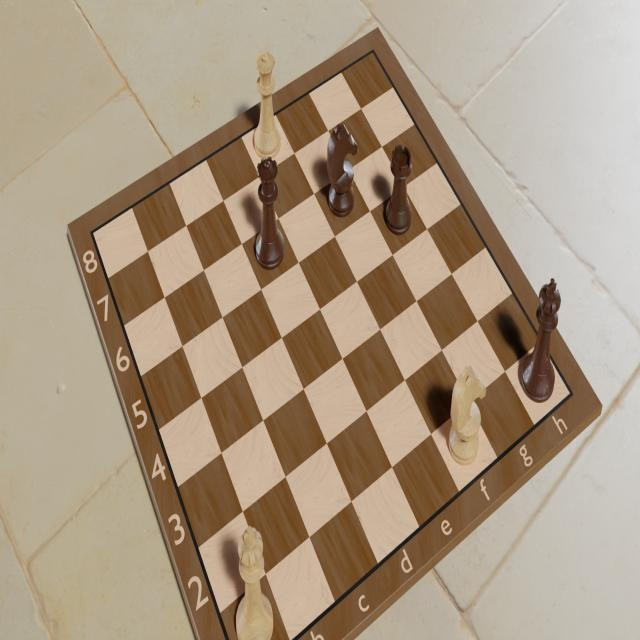black-king: (519, 274, 565, 406)
black-knight: (324, 116, 360, 223)
black-queen: (254, 149, 288, 275)
black-rook: (383, 142, 417, 241)
white-king: (233, 521, 275, 639)
white-knight: (447, 360, 489, 472)
white-queen: (253, 47, 285, 161)
